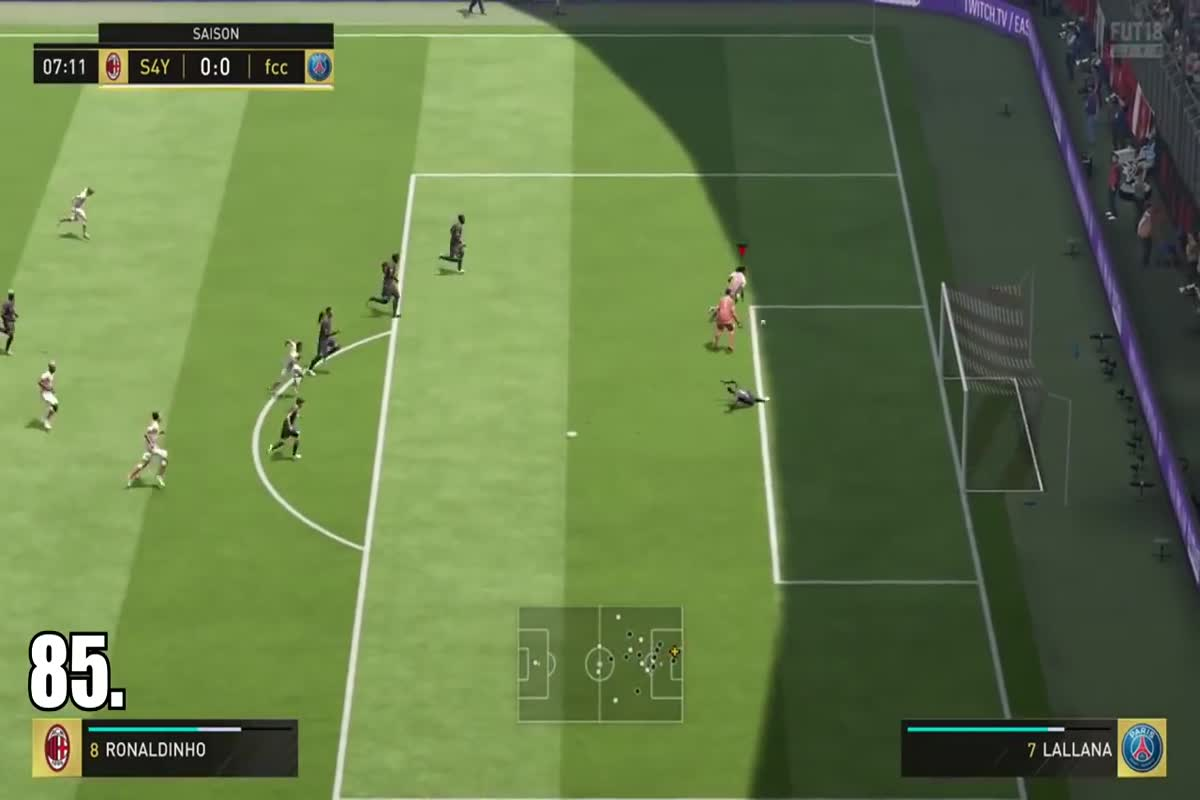ball: (756, 312, 777, 333)
